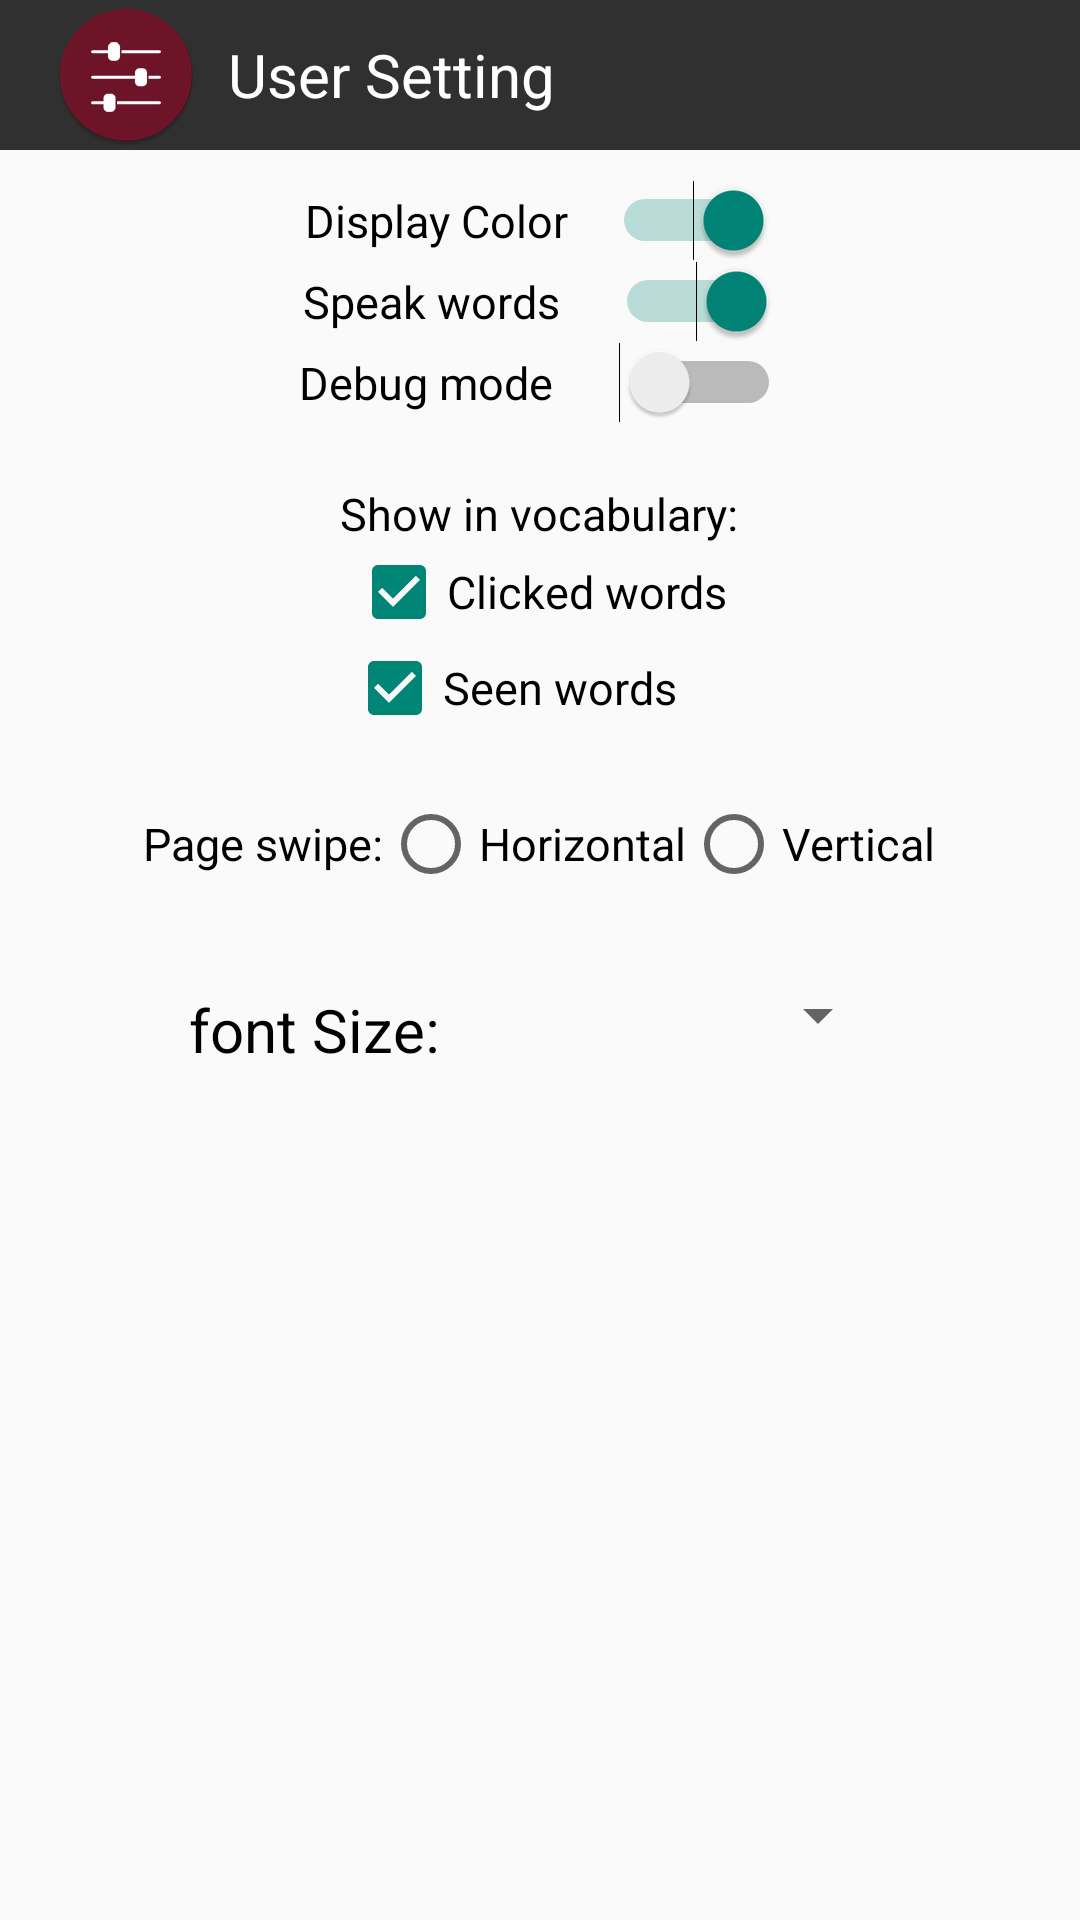

Named icons in this screenshot (1080 x 1920) and their centers, [x,y]:
settings: [126,75]
